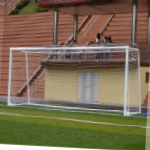goals: (7, 45, 143, 118)
